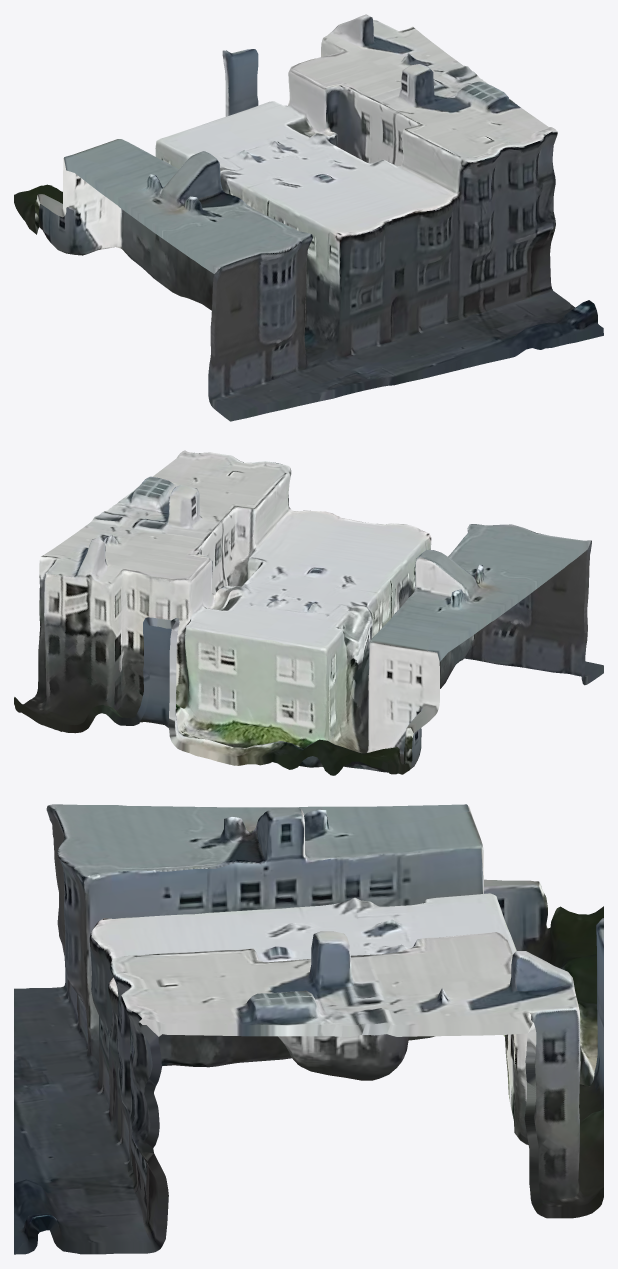
The model's file is z20-167728-405193-h0-yup-uvflip-v3-world.glb.
3 renders of one model, top to bottom at view 1: azimuth 30°, elevation 25°; view 2: azimuth 150°, elevation 25°; view 3: azimuth 270°, elevation 25°, orthographic. The views are drawn at different scales.
Size of the model in its own units: 30.2 by 15.44 by 30.32.
Materials: 1 (1 with a texture image).
